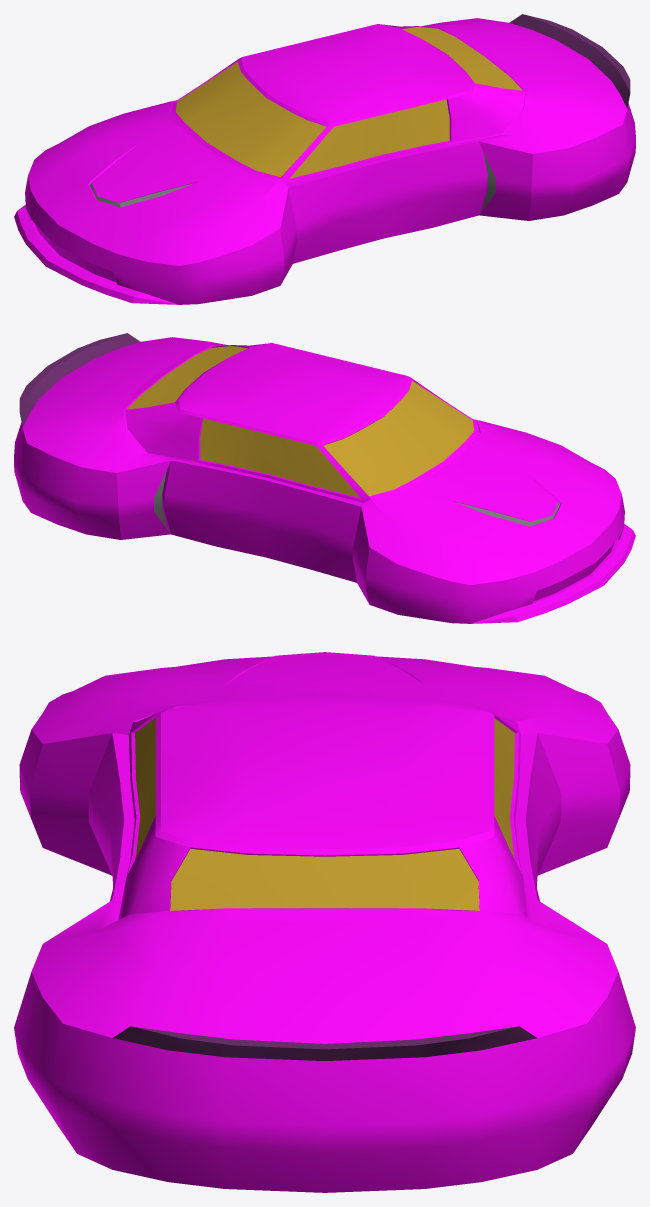
The model's file is SM_Voiture.fbx.
The picture shows the model from 3 angles, top to bottom: view 1: azimuth 30°, elevation 25°; view 2: azimuth 150°, elevation 25°; view 3: azimuth 270°, elevation 25°; orthographic projection. The views are drawn at different scales.
Parts seen in each view (by area): view 1: SM_Voiture; view 2: SM_Voiture; view 3: SM_Voiture.
Boxes of the visible parts, x1,y1,x2,y2 form: SM_Voiture: (14,14,635,304); SM_Voiture: (14,333,635,623); SM_Voiture: (14,652,635,1192).
Size of the model in its own units: 3.02 by 0.7014 by 1.62.
